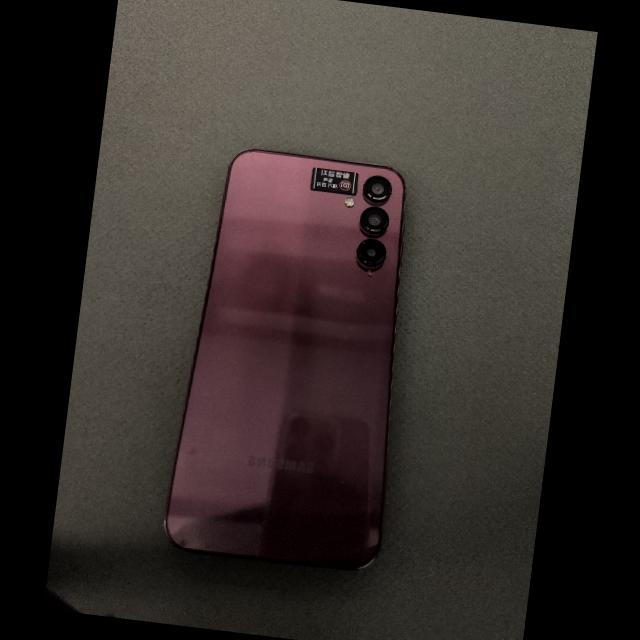lens: (356, 239, 385, 266), (359, 207, 388, 233), (363, 176, 391, 202)
phone: (164, 149, 405, 569)
sticker: (309, 167, 359, 195)
